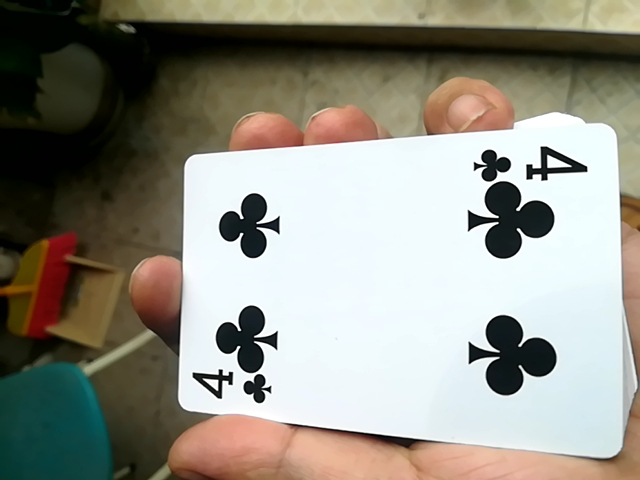mh 4: (171, 113, 622, 455)
